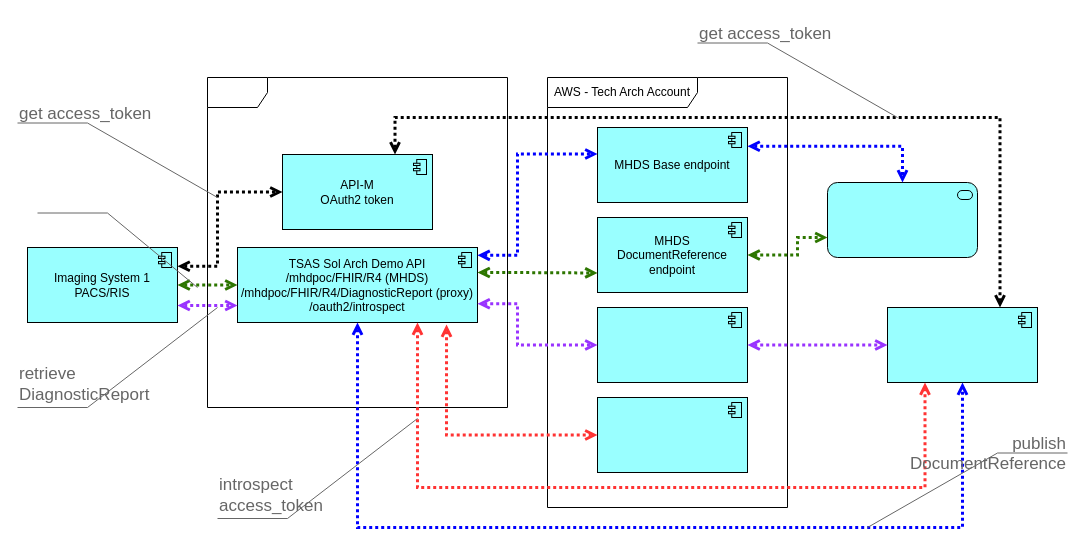
Image size: 1085x555. Some labels were removed from this diagram. The centre of each missing label's shape, as x and y in pixels:
"alpha token introspection endpoint" belongs at [672,434].
"API-M" belongs at [357,242].
"DiagnosticReport proxy endpoint" belongs at [672,344].
"Imaging System 2 PACS/RIS" belongs at [962,344].
"National Record Locator" belongs at [902,220].
"search for DocumentReferences" belongs at [117,237].
